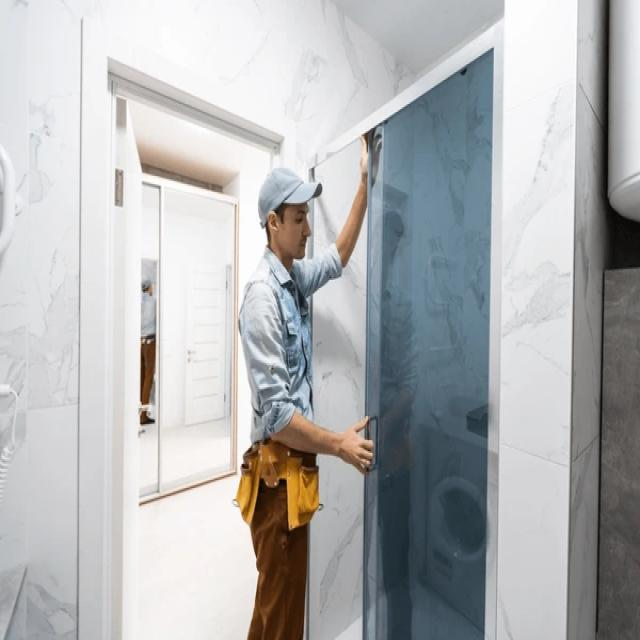Fitting: (108, 51, 551, 612)
